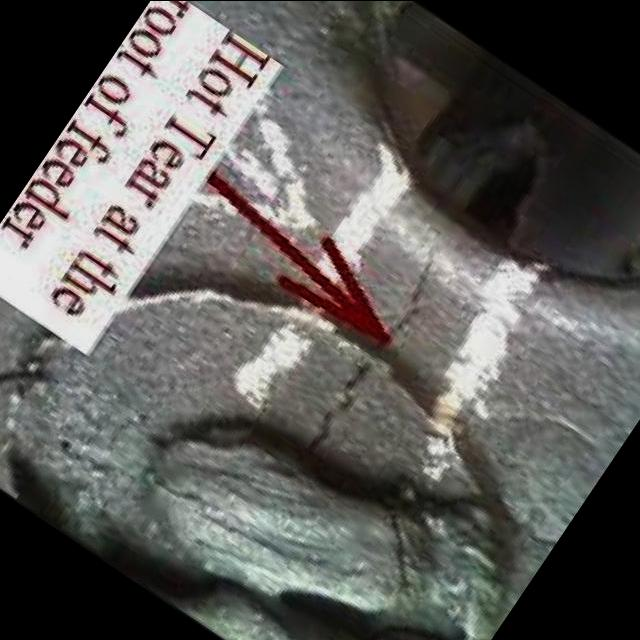defect: (294, 250, 437, 469)
